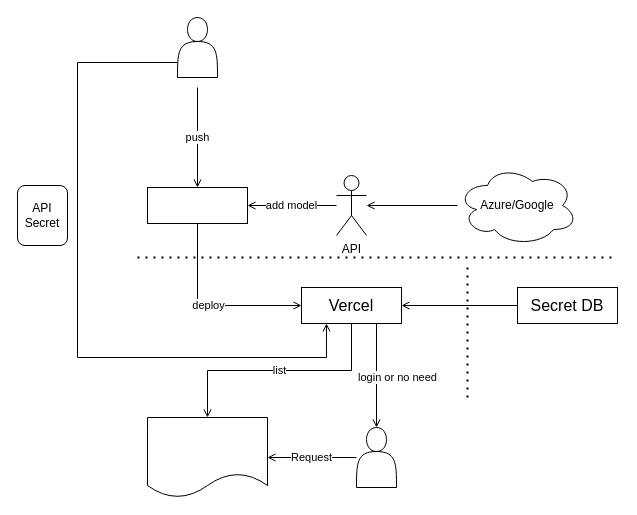
Some shapes in this 637 by 515 pixel diagram are drawn without their labels. The centre of each missing label's shape, as x and y in pixels:
GitHub: point (197, 205)
Service Catagory: point (207, 457)
